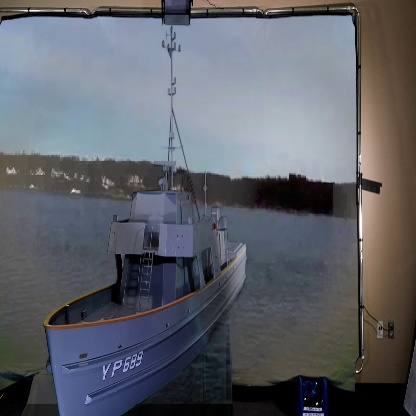YP689: (40, 26, 249, 416)
